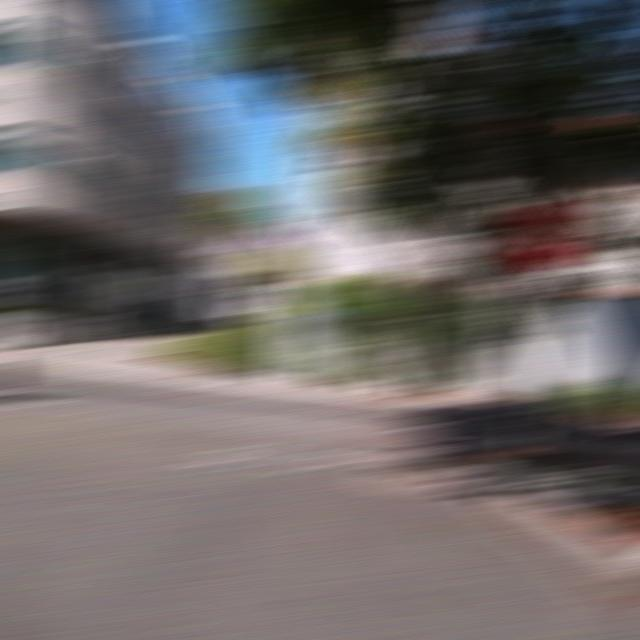stop_sign: (504, 198, 582, 272)
